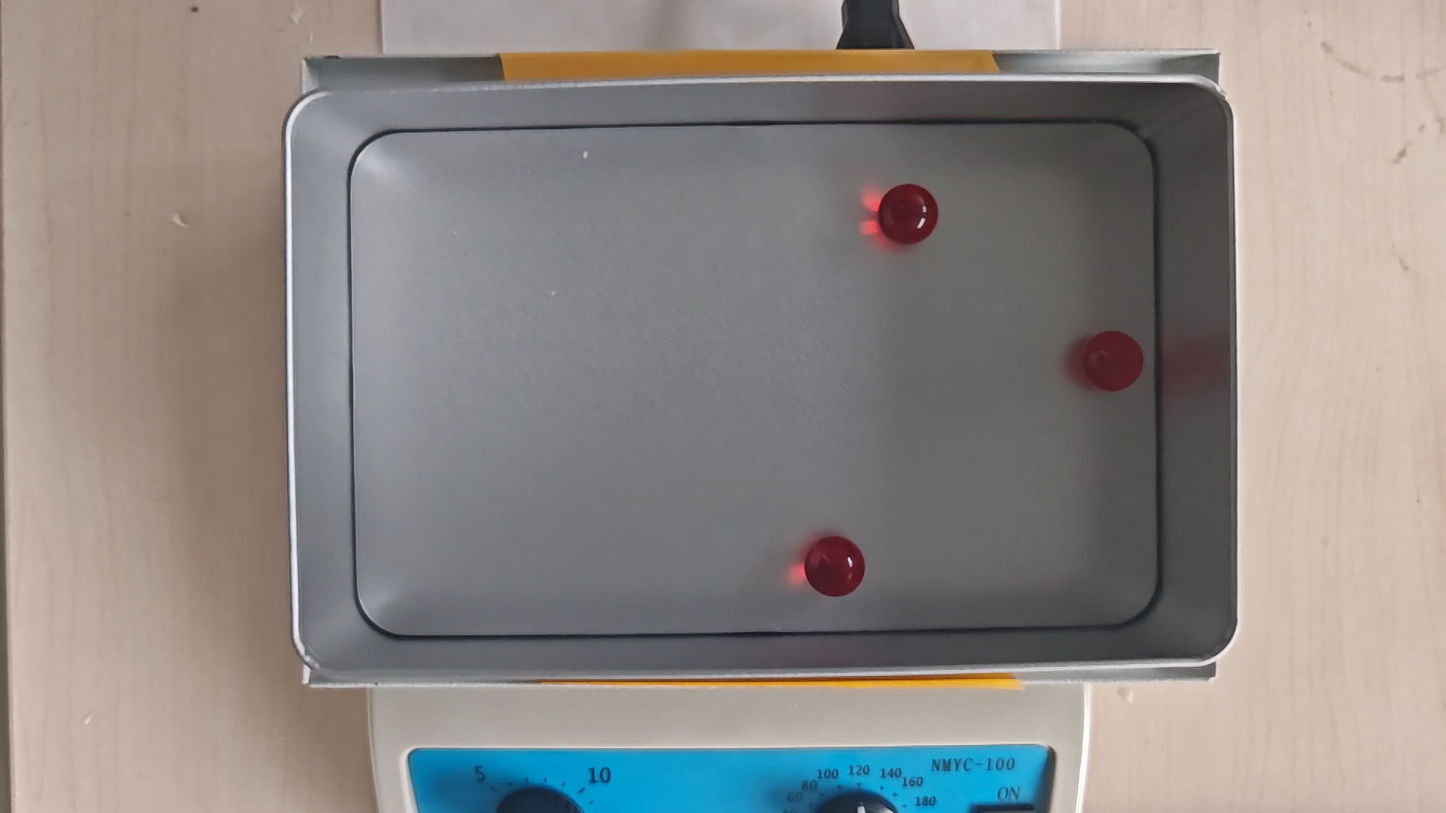ball: (801, 537, 865, 601), (1085, 327, 1143, 393), (880, 184, 938, 249)
container: (344, 126, 1161, 633)
